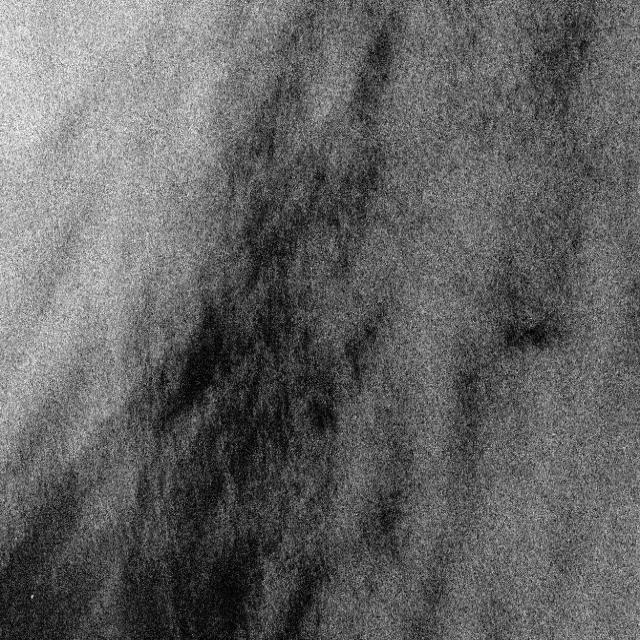look-alike: (144, 31, 406, 631), (3, 429, 118, 637), (524, 4, 594, 153), (495, 254, 568, 366)
